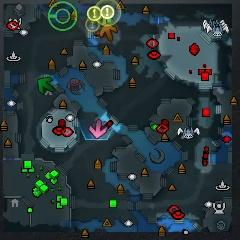Other: (48, 2, 77, 31), (87, 6, 101, 21), (101, 5, 114, 19), (86, 19, 100, 32)
x1: (90, 120, 107, 139)
x2: (99, 19, 109, 26)
x4: (37, 77, 54, 94)
x5: (99, 25, 117, 41)
